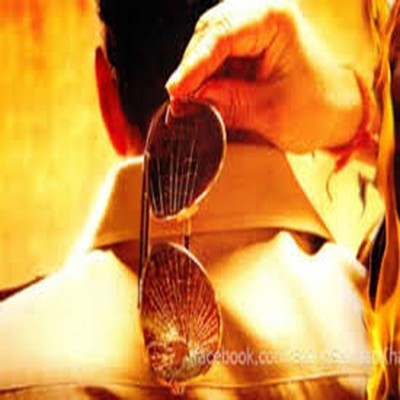eywear: (130, 91, 240, 361)
